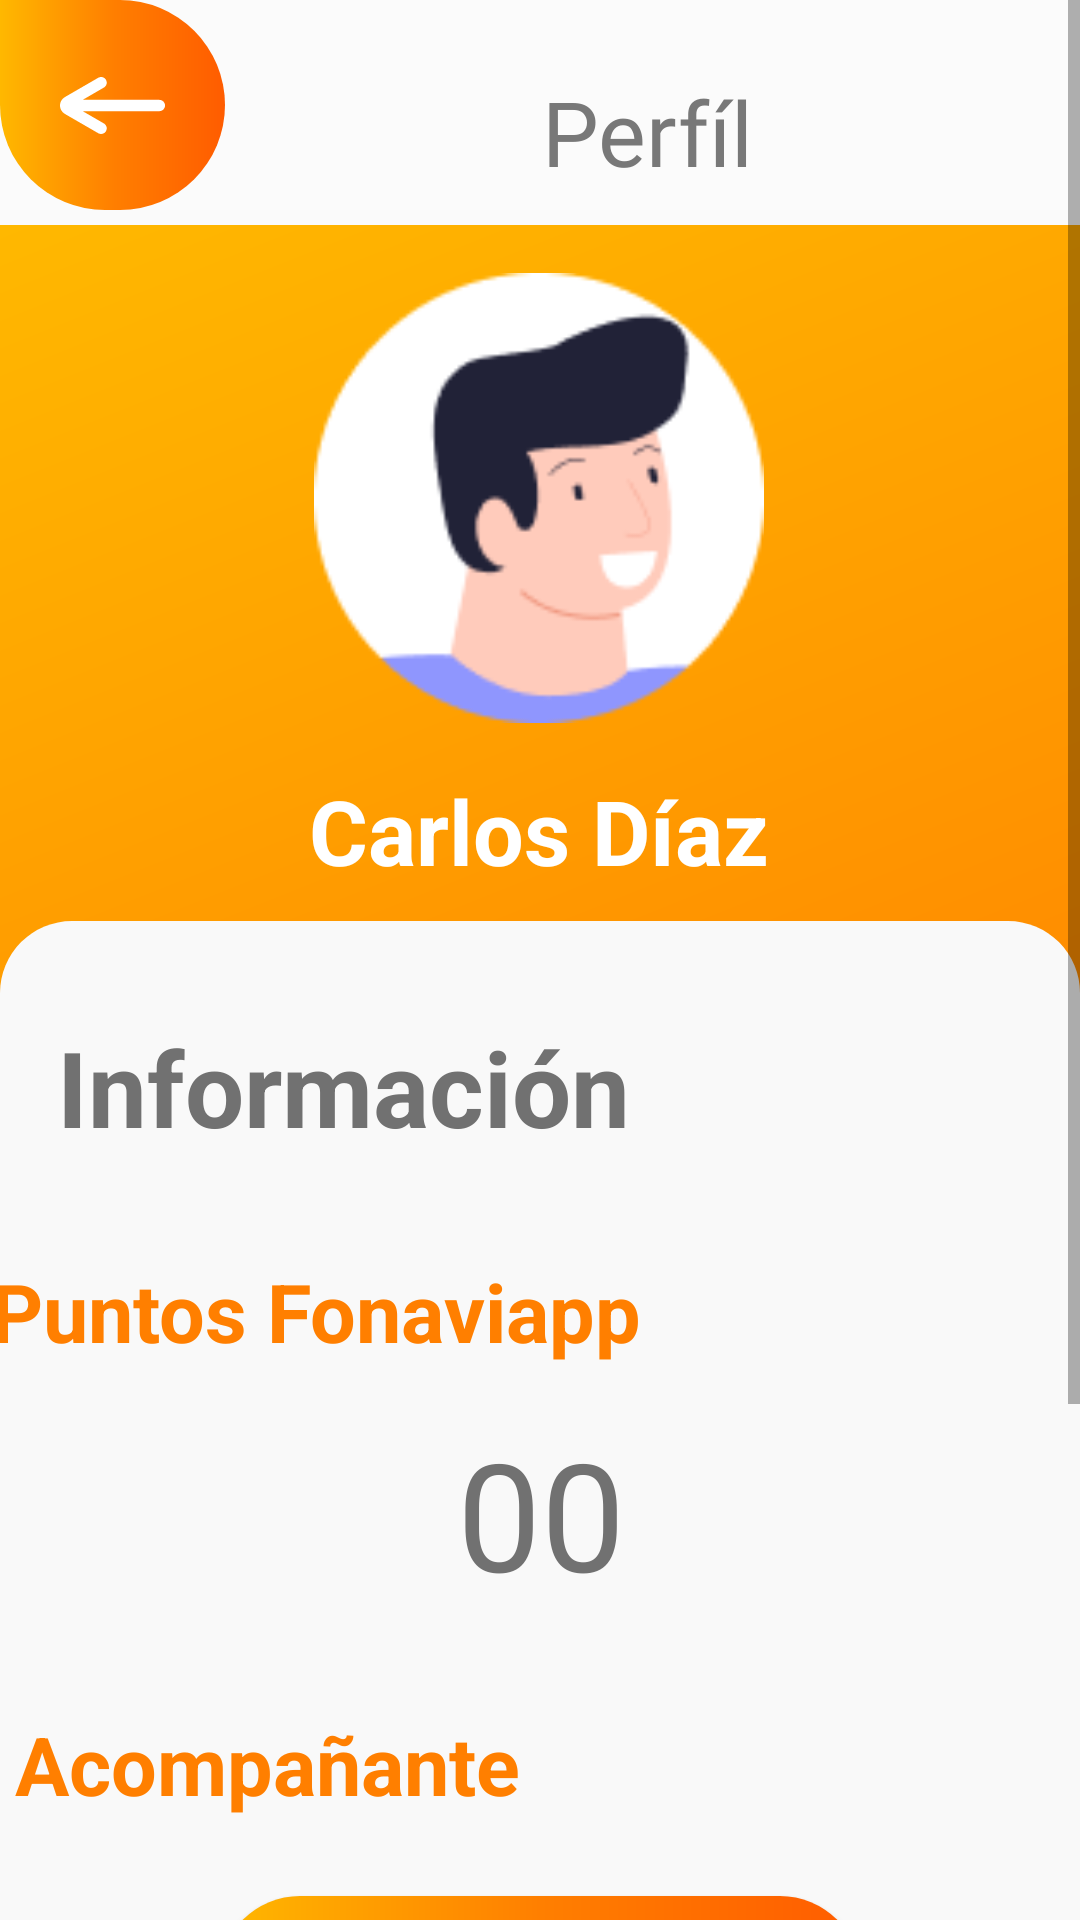

Named icons in this screenshot (1080*1920) and their centers, (x,y):
backarrow: (112,105)
